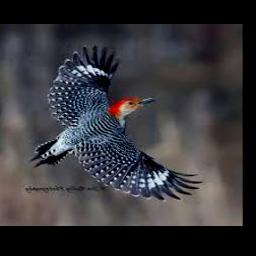Woodpecker: (29, 44, 203, 201)
